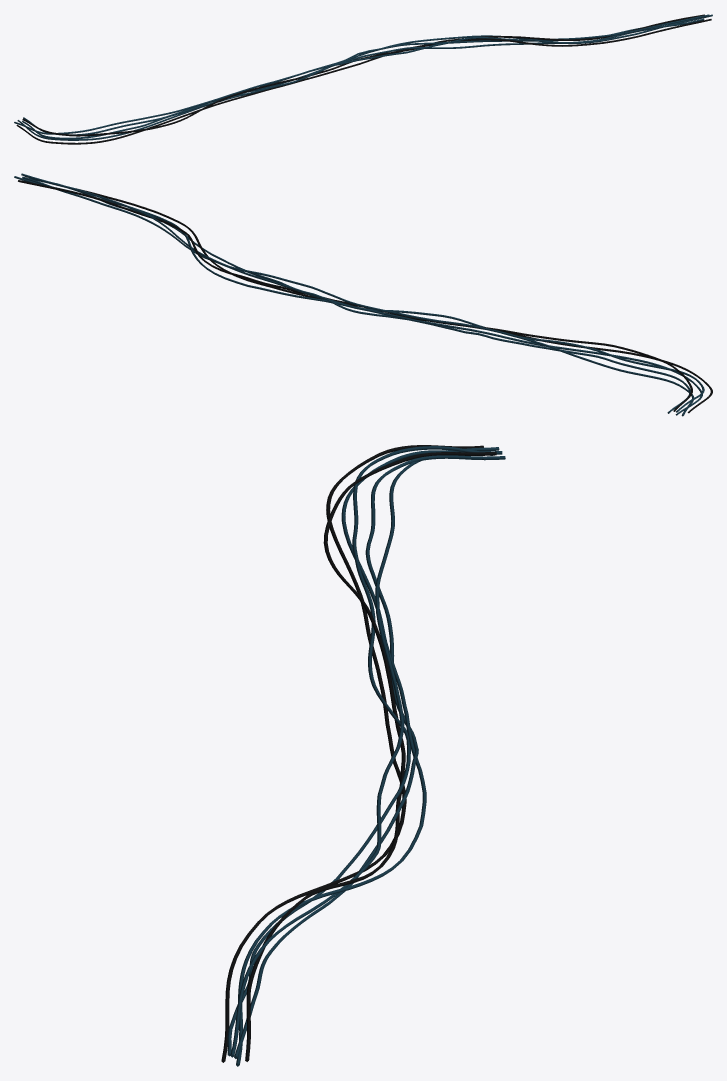
Rendered from CableFloor_Thin_02.glb.
The picture shows the model from 3 angles, top to bottom: view 1: azimuth 30°, elevation 25°; view 2: azimuth 150°, elevation 25°; view 3: azimuth 270°, elevation 25°; orthographic projection. The views are drawn at different scales.
Visible parts, largest first — view 1: CableFloor_Thin_02.001; view 2: CableFloor_Thin_02.001; view 3: CableFloor_Thin_02.001.
Part boxes in pixels (<box>): CableFloor_Thin_02.001: <box>14,14,712,144</box>; CableFloor_Thin_02.001: <box>14,173,712,416</box>; CableFloor_Thin_02.001: <box>221,445,505,1066</box>.
Size of the model in its own units: 6.49 by 0.0775 by 1.26.
